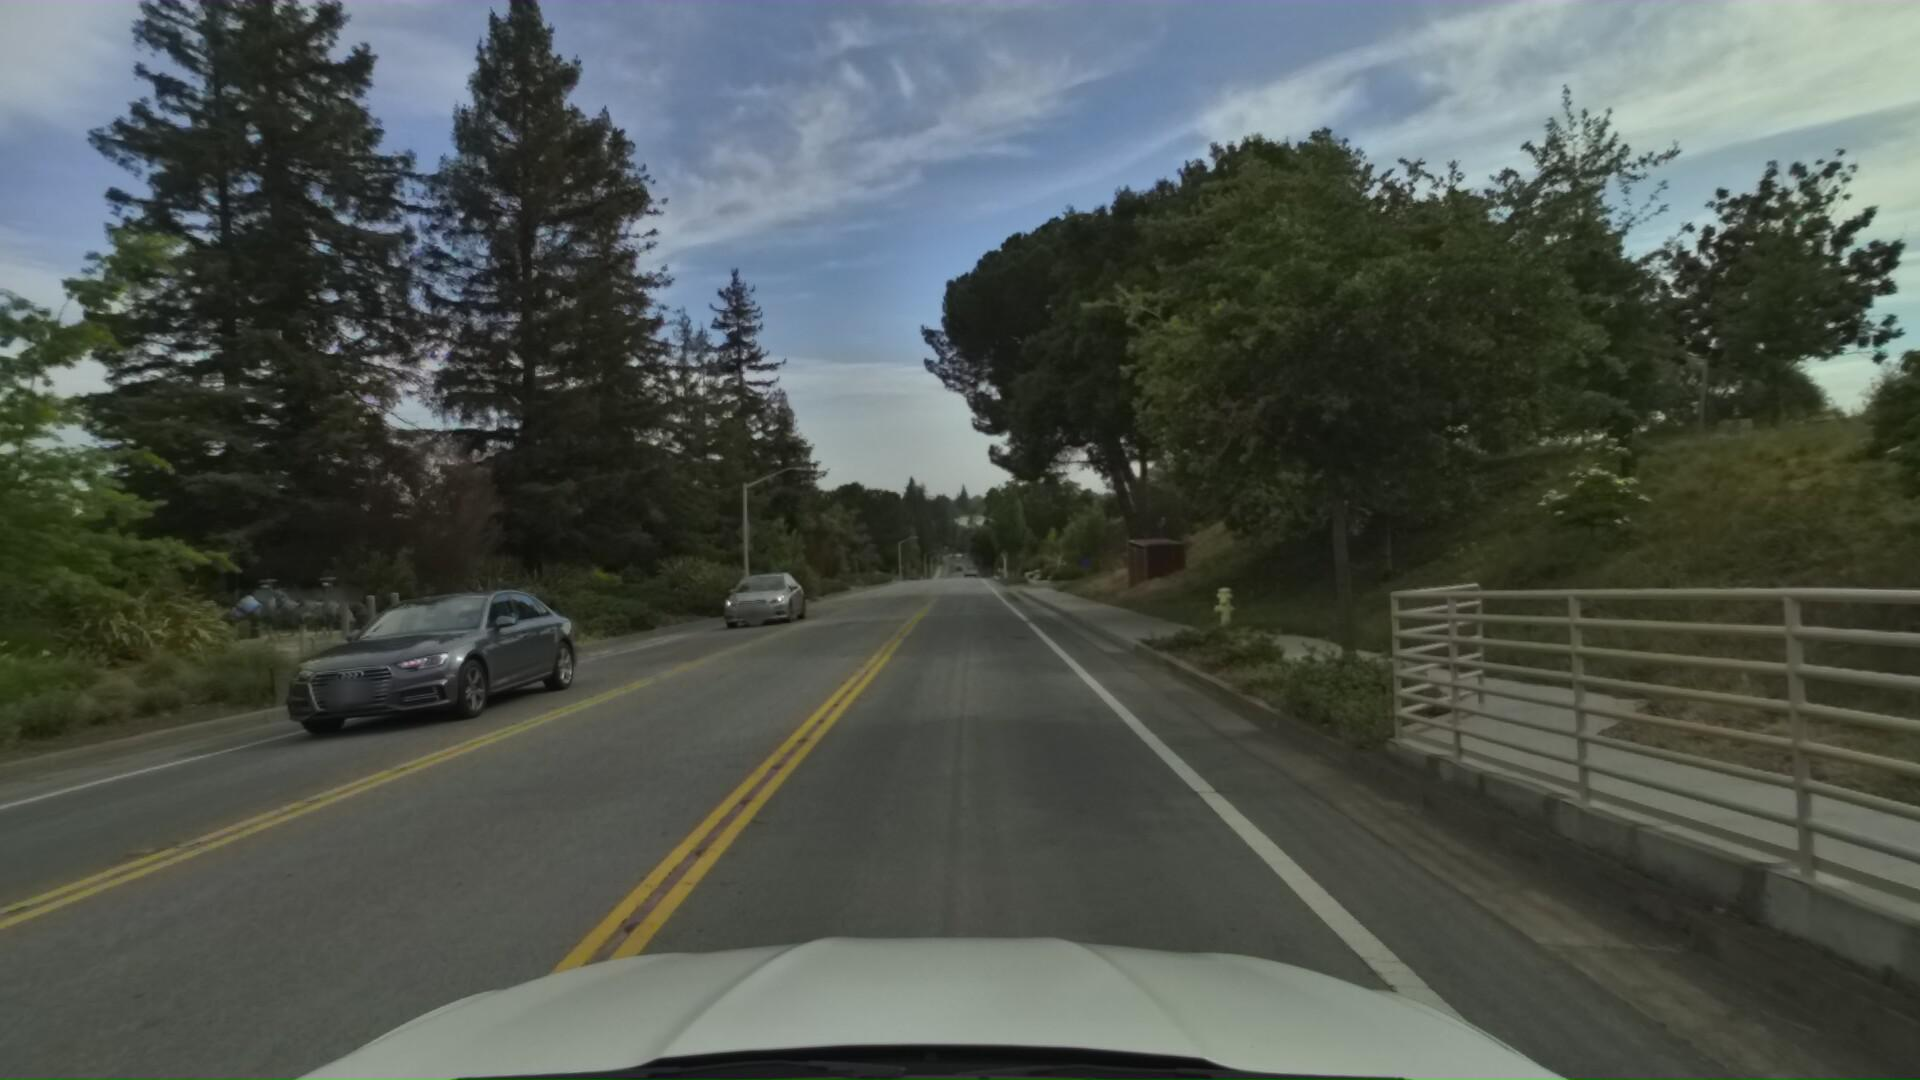car: (199, 562, 576, 765), (705, 553, 804, 626)
